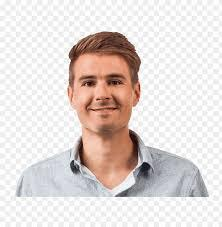person: (64, 27, 146, 134)
